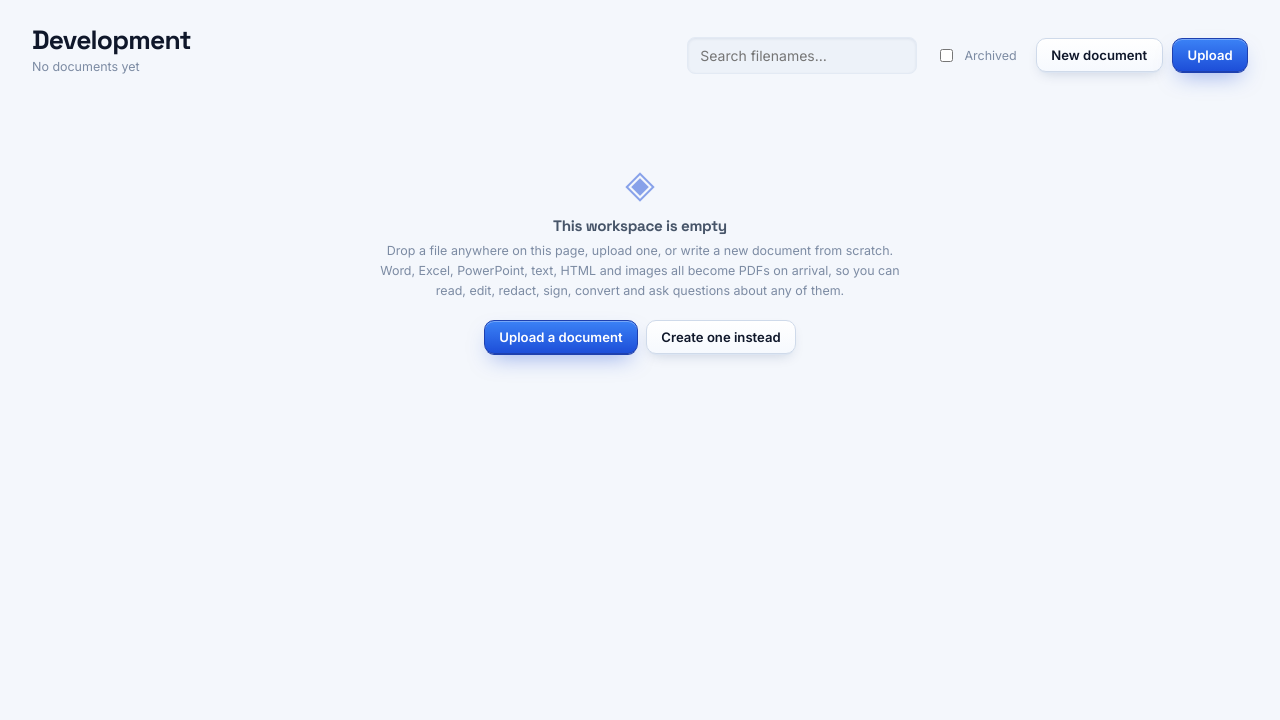
reaching it from the library › opens the dialog when it is pressed
The image size is (1280, 720).
Click the button "New document" at (1099, 55), box x1=1036 y1=38 x2=1162 y2=72
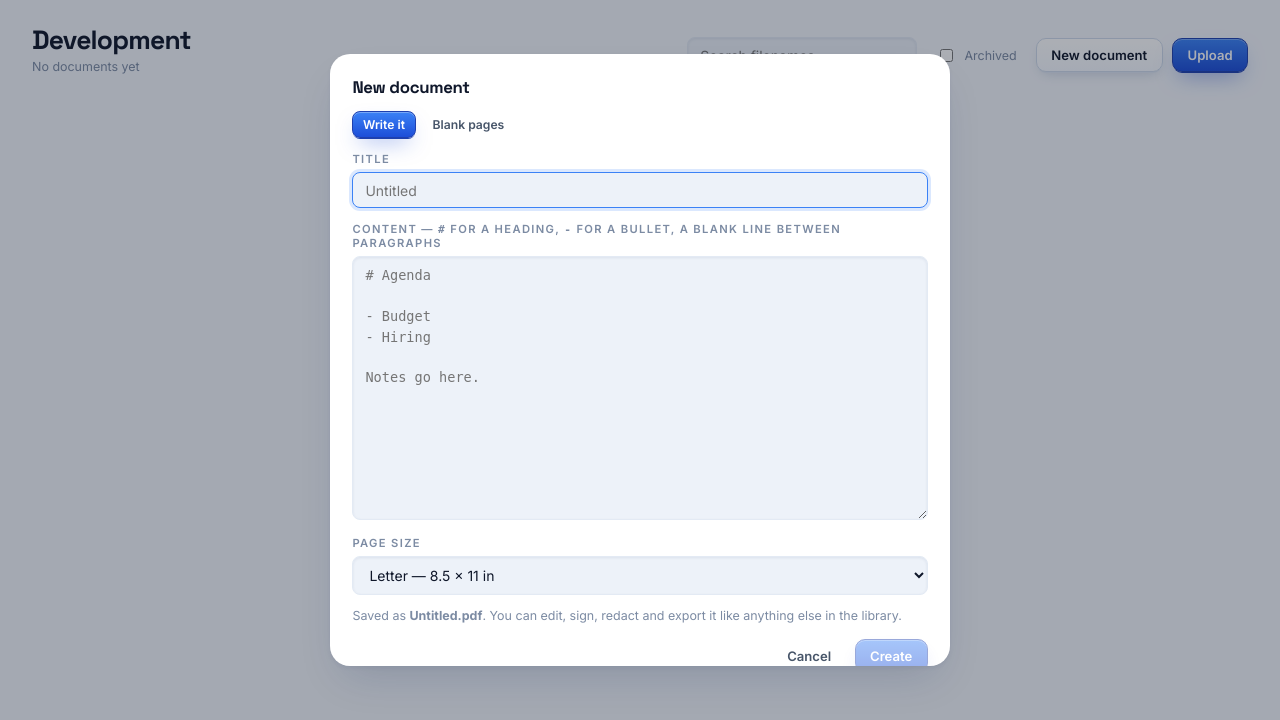
Now the dialog "New document" is shown, box x1=330 y1=54 x2=950 y2=666
